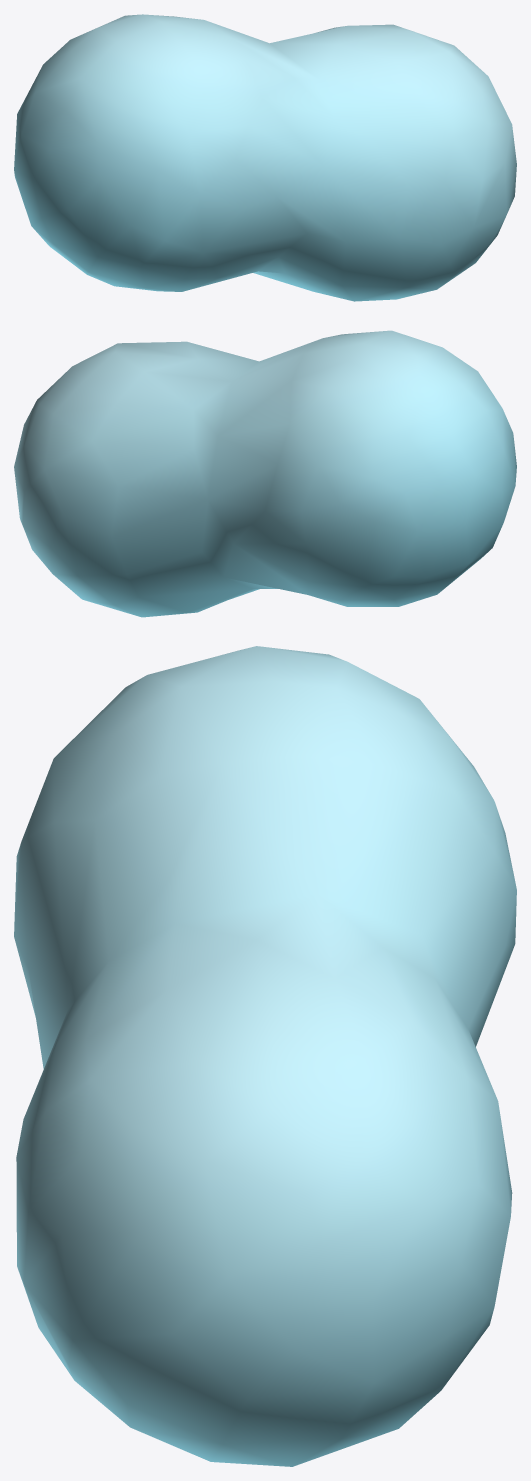
File: cloud_1.fbx
3 views of the same model, one above another, from view 1: azimuth 30°, elevation 25°; view 2: azimuth 150°, elevation 25°; view 3: azimuth 270°, elevation 25° (orthographic). The views are drawn at different scales.
Visible parts, largest first — view 1: cloud_1; view 2: cloud_1; view 3: cloud_1.
Part boxes in pixels (box(x1,y1,x2,y2)): cloud_1: box(14, 14, 516, 301); cloud_1: box(14, 330, 516, 617); cloud_1: box(14, 646, 516, 1466).
Size of the model in its own units: 219 by 142 by 113.
